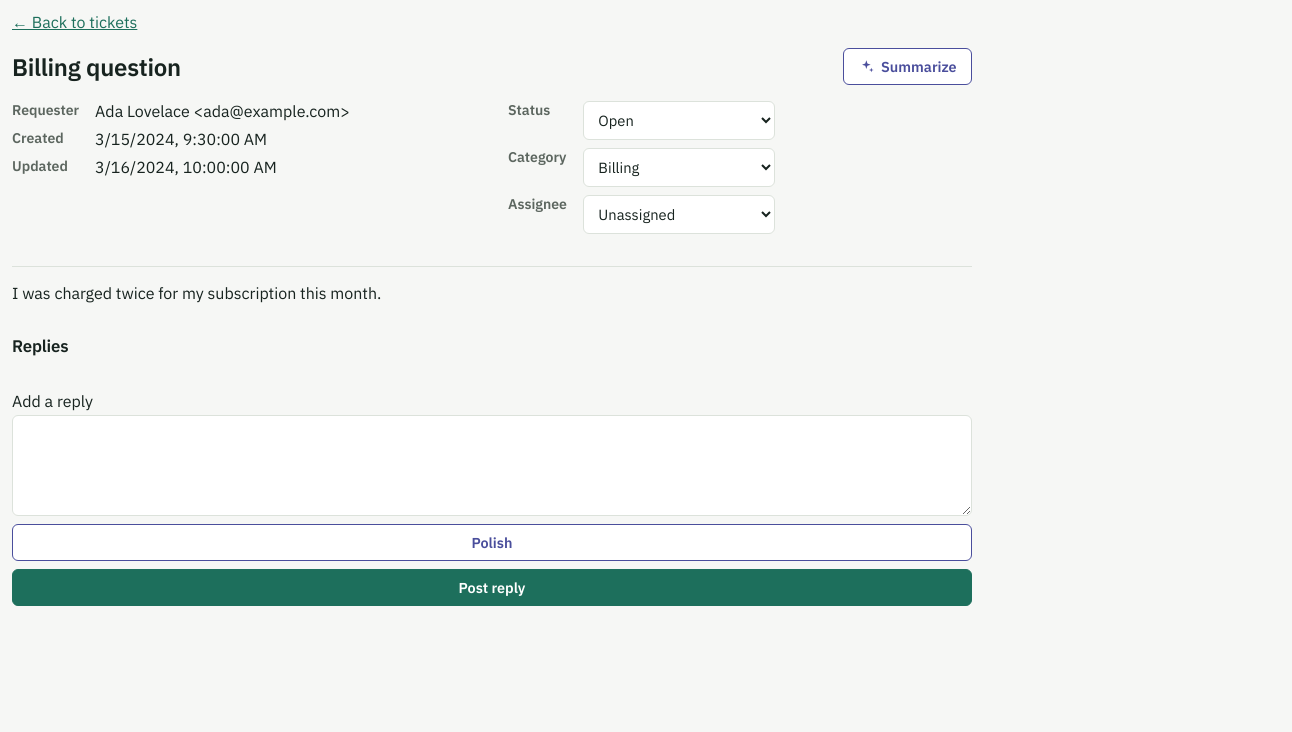
shows the category error message when the category update fails
The width and height of the screenshot is (1292, 732).
expect the heading "Billing question" is shown: met, box [12,50,181,82]
Select "Refund" in the dropdown named "Category". click: (679, 168)
box: [583,148,775,187]
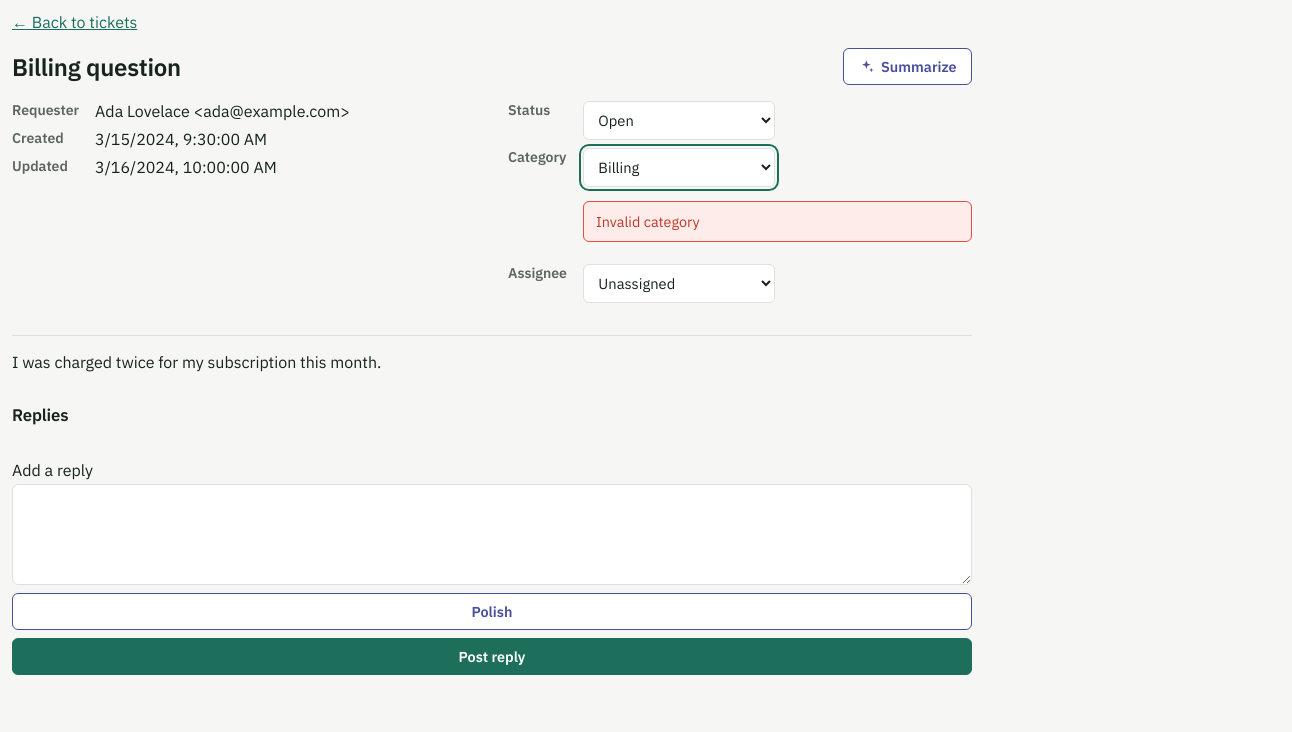
expect the text "Invalid category" is shown: met, box [583,201,972,242]
